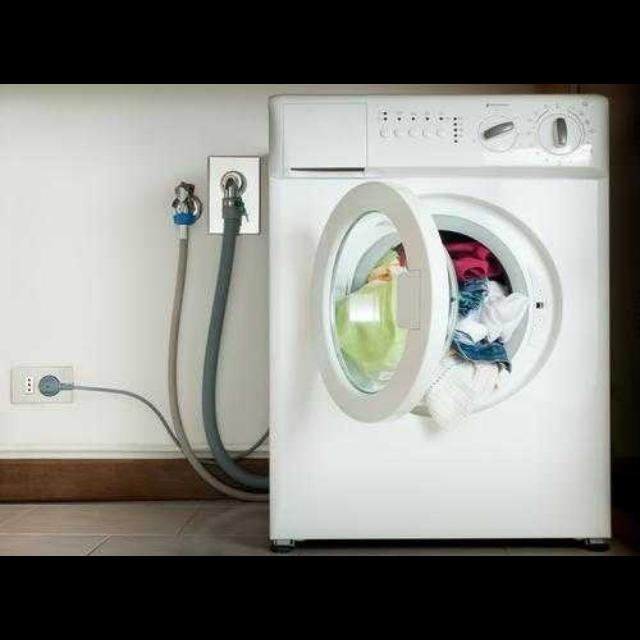Washing-Machine: (268, 96, 610, 538)
